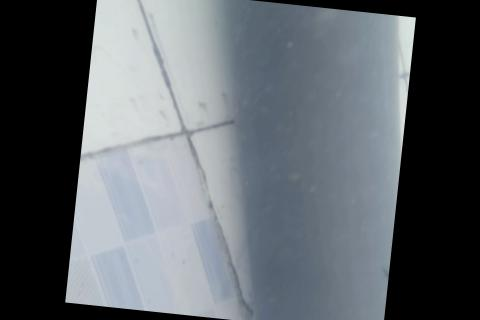keretakan: (376, 266, 389, 281)
